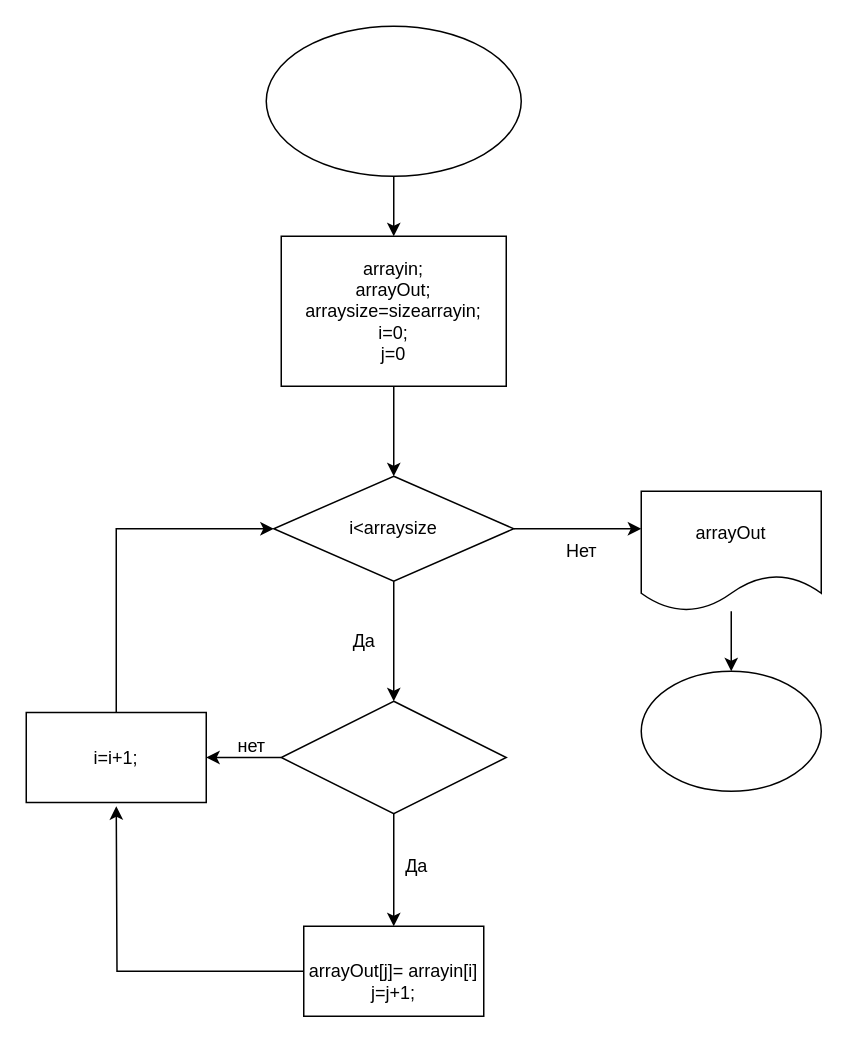
Image size: 848x1043. Some labels were removed from this diagram. Here are the shapes that lost their labels. From the top down, the box of each, then its label:
(265, 25, 521, 176): Начало
(640, 670, 821, 791): Конец
(280, 700, 506, 814): sizearrayIn[i]<=3
